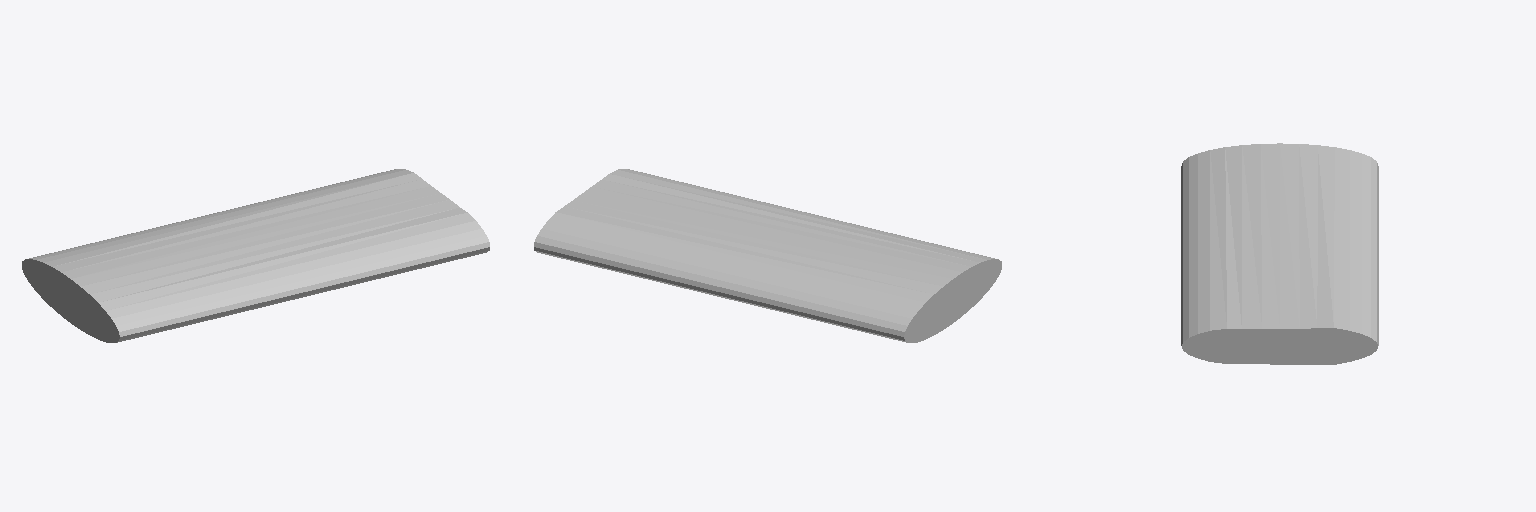
The model's file is Handle.obj.
3 renders of one model, left to right at view 1: azimuth 30°, elevation 25°; view 2: azimuth 150°, elevation 25°; view 3: azimuth 270°, elevation 25°, orthographic.
Size of the model in its own units: 36.21 by 4.14 by 16.68.